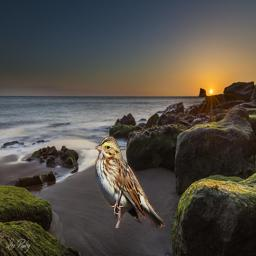Sparrow: (95, 135, 165, 228)
